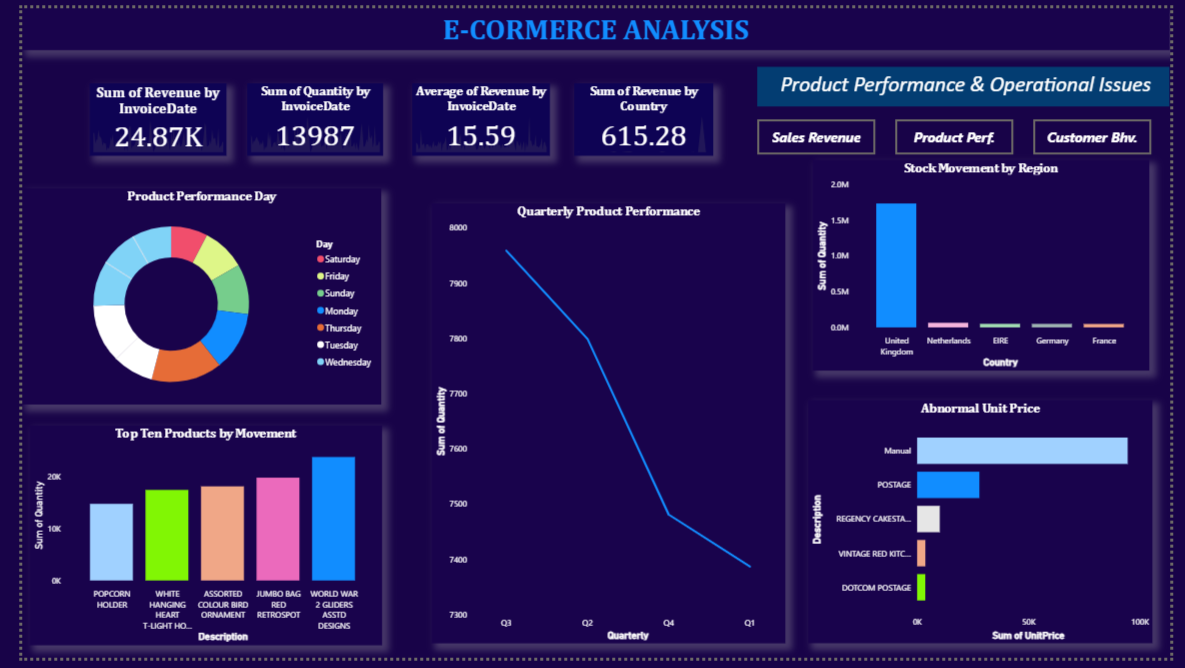

What the dashboard file says about the page in this screenshot:
{"tool":"powerbi","page":{"name":" Product Performance/Operational/Quality Issues","canvas":[1700,962],"ordinal":2},"visuals":[{"type":"lineStackedColumnComboChart","title":"Top Ten Products by Movement","fields":{"Category":["E Analysis (1) (version 1).Description"],"Y":["Sum(E Analysis (1) (version 1).Quantity)"]},"box":[10,616.7,521.7,325],"z":0},{"type":"lineStackedColumnComboChart","title":"Stock Movement by Region","fields":{"Category":["E Analysis (1) (version 1).Country"],"Y":["Sum(E Analysis (1) (version 1).Quantity)"]},"box":[1171.7,223.3,498.3,311.7],"z":1000},{"type":"clusteredBarChart","title":"Abnormal Unit Price","fields":{"Category":["E Analysis (1) (version 1).Description"],"Y":["Sum(E Analysis (1) (version 1).UnitPrice)"]},"box":[1163.3,580,510,360],"z":2000},{"type":"textbox","box":[0,0,1700,61.7],"z":3000},{"type":"kpi","fields":{"Indicator":["Sum(E Analysis (1) (version 1).Revenue)"],"TrendLine":["E Analysis (1) (version 1).InvoiceDate"]},"box":[100,111.4,202.9,107.1],"z":4000},{"type":"kpi","fields":{"Indicator":["Sum(E Analysis (1) (version 1).Quantity)"],"TrendLine":["E Analysis (1) (version 1).InvoiceDate"]},"box":[334.3,111.4,201.4,107.1],"z":5000},{"type":"kpi","fields":{"Indicator":["Avg(E Analysis (1) (version 1).Revenue)"],"TrendLine":["E Analysis (1) (version 1).InvoiceDate"]},"box":[577.1,111.4,204.3,107.1],"z":6000},{"type":"kpi","fields":{"TrendLine":["E Analysis (1) (version 1).Country"],"Indicator":["Sum(E Analysis (1) (version 1).Revenue)"]},"box":[817.1,111.4,205.7,107.1],"z":7000},{"type":"donutChart","title":"Product Performance Day","fields":{"Category":["E Analysis (1) (version 1).Day"],"Y":["Sum(E Analysis (1) (version 1).Revenue)"],"Series":["E Analysis (1) (version 1).StockCode"]},"box":[0,266.7,531.7,320],"z":11000},{"type":"lineChart","title":"Quarterly Product Performance","fields":{"Category":["E Analysis (1) (version 1).Quarterly"],"Y":["Sum(E Analysis (1) (version 1).Quantity)"]},"box":[605.7,288.6,524.3,651.4],"z":12000},{"type":"textbox","box":[1089.6,87.5,610.4,58.3],"z":12002},{"type":"actionButton","box":[1089.6,164.6,175,52.1],"z":12003},{"type":"actionButton","box":[1293.8,164.6,175,52.1],"z":12004},{"type":"actionButton","box":[1497.9,164.6,175,52.1],"z":12005}]}

Visuals, with their boxes in screenshot pixels (x1, y1, x2, y2), scaled from the page's 1700x962 canvas onto the 1185x668 screenshot:
"Top Ten Products by Movement" lineStackedColumnComboChart: Rect(7, 428, 371, 654)
"Stock Movement by Region" lineStackedColumnComboChart: Rect(817, 155, 1164, 371)
"Abnormal Unit Price" clusteredBarChart: Rect(811, 403, 1166, 653)
textbox: Rect(0, 0, 1184, 43)
kpi - Sum(E Analysis (1) (version 1).Revenue) x E Analysis (1) (version 1).InvoiceDate: Rect(70, 77, 211, 152)
kpi - Sum(E Analysis (1) (version 1).Quantity) x E Analysis (1) (version 1).InvoiceDate: Rect(233, 77, 373, 152)
kpi - Avg(E Analysis (1) (version 1).Revenue) x E Analysis (1) (version 1).InvoiceDate: Rect(402, 77, 545, 152)
kpi - E Analysis (1) (version 1).Country x Sum(E Analysis (1) (version 1).Revenue): Rect(570, 77, 713, 152)
"Product Performance Day" donutChart: Rect(0, 185, 371, 407)
"Quarterly Product Performance" lineChart: Rect(422, 200, 788, 653)
textbox: Rect(760, 61, 1184, 101)
actionButton: Rect(760, 114, 882, 150)
actionButton: Rect(902, 114, 1024, 150)
actionButton: Rect(1044, 114, 1166, 150)
